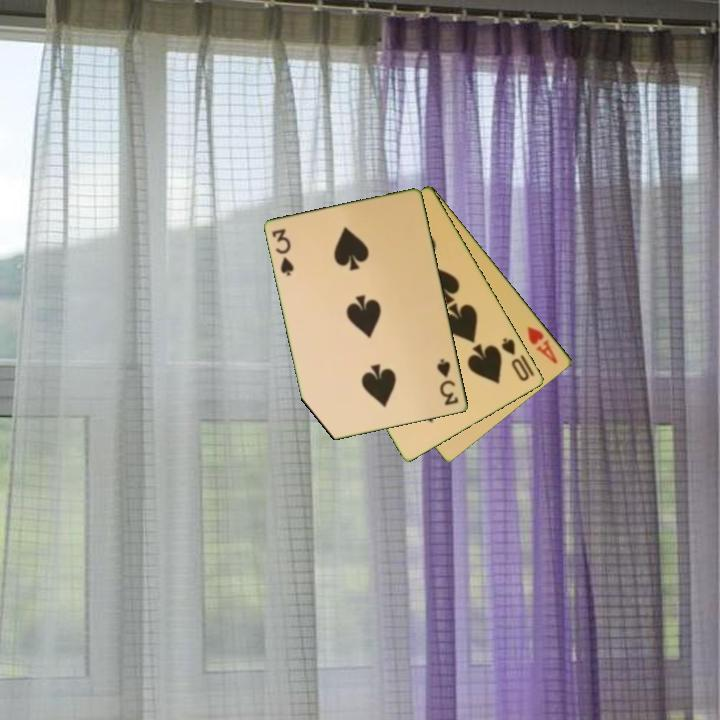10s: (498, 334, 533, 384)
3s: (434, 355, 462, 409), (269, 225, 297, 279)
Ah: (524, 323, 561, 367)
